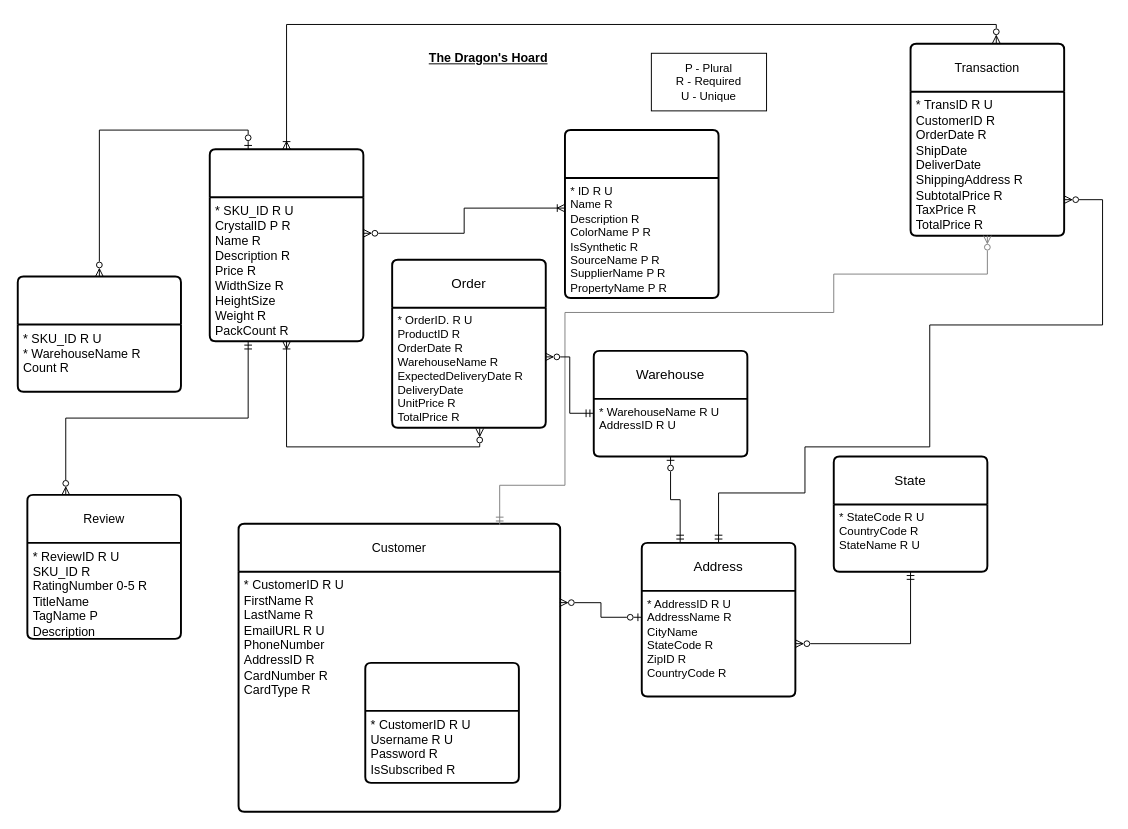
Image size: 1128x829. Some labels were removed from this diagram. The shapes that lost their labels are listed below. From the top down, each one's box as (x1, y1, x2, y2) in pixels, then its label:
(564, 129, 719, 299): Crystal
(208, 148, 364, 342): Product
(16, 275, 181, 392): Inventory
(364, 661, 519, 783): RewardsMember
